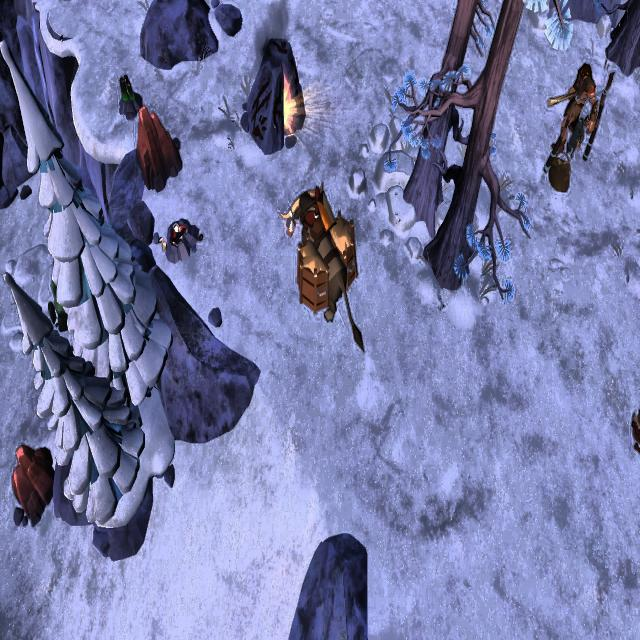enemy_factionKeeper: (551, 57, 597, 157)
ore_t3: (119, 69, 136, 105)
rock_t5: (134, 102, 184, 186), (8, 440, 57, 524)
